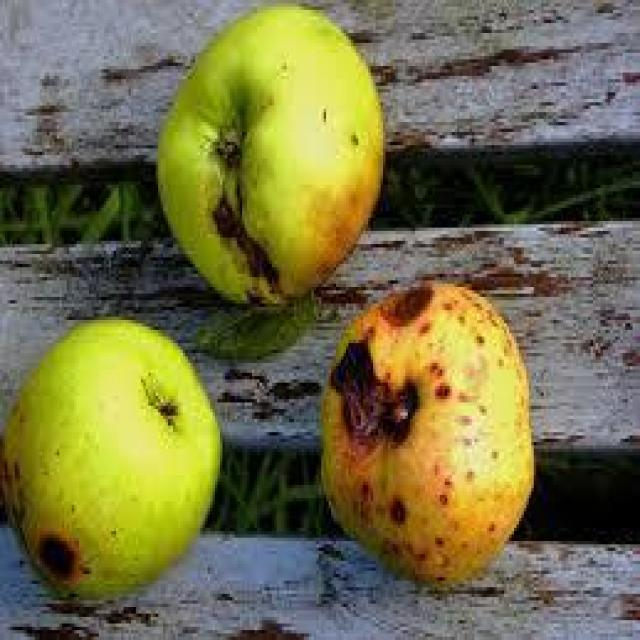maca: (0, 284, 236, 601), (319, 277, 534, 591), (150, 0, 392, 274)
